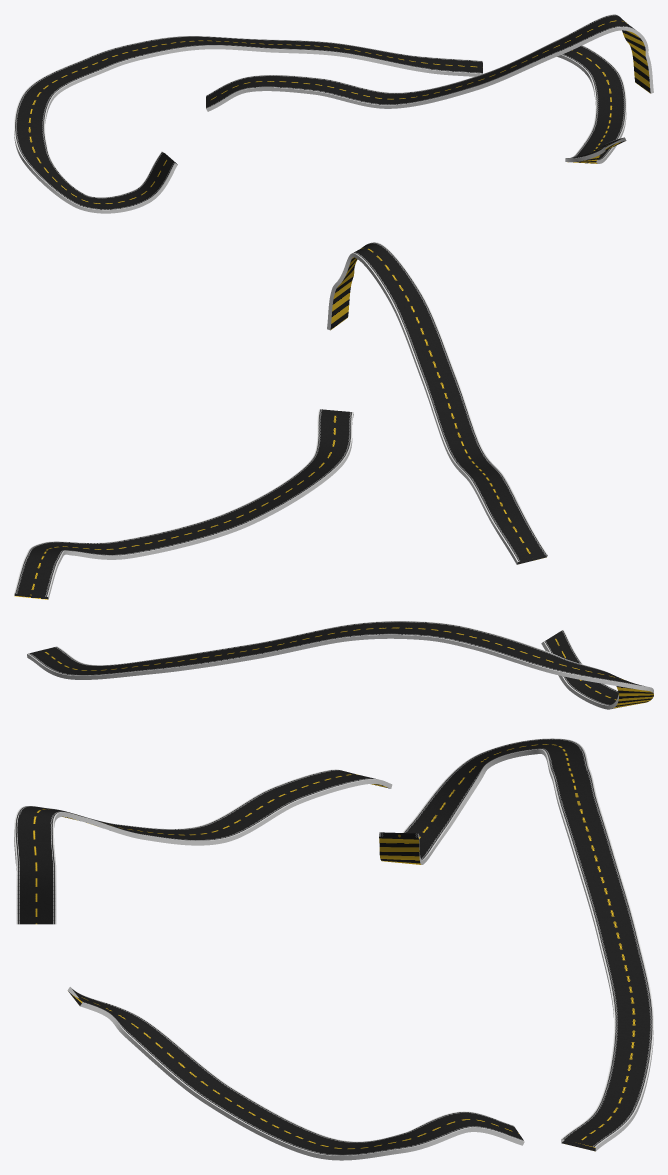
The model's file is pista.obj.
3 views of the same model, one above another, from view 1: azimuth 30°, elevation 25°; view 2: azimuth 150°, elevation 25°; view 3: azimuth 270°, elevation 25° (orthographic). The views are drawn at different scales.
Visible parts, largest first — view 1: pista_tramo_1, pista_tramo_2, pista_tramo_3; view 2: pista_tramo_2, pista_tramo_1, pista_tramo_3; view 3: pista_tramo_1, pista_tramo_3, pista_tramo_2.
Part boxes in pixels (x1,y1,x2,y2): pista_tramo_1: (14, 36, 482, 213); pista_tramo_2: (206, 14, 653, 111); pista_tramo_3: (557, 45, 626, 163); pista_tramo_2: (327, 242, 547, 564); pista_tramo_1: (27, 621, 653, 709); pista_tramo_3: (14, 409, 353, 599); pista_tramo_1: (379, 738, 653, 1151); pista_tramo_3: (67, 987, 524, 1160); pista_tramo_2: (14, 769, 392, 924).
Size of the model in its own units: 210 by 79.25 by 161.
